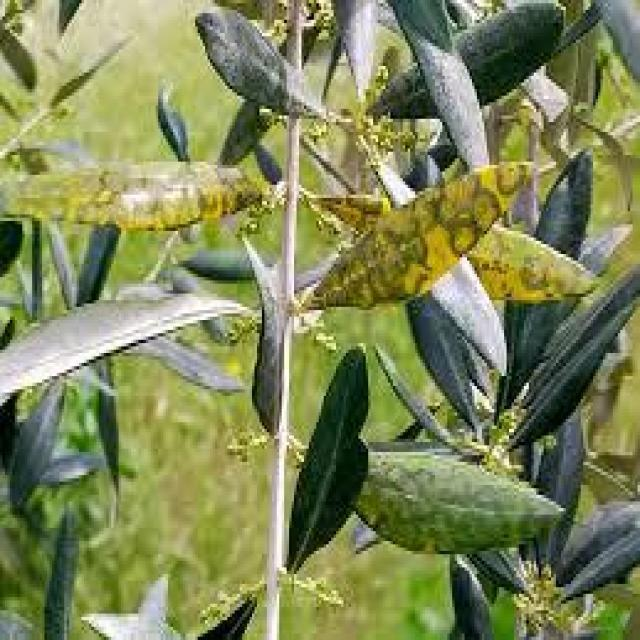OlivePeacockSpot: (312, 165, 502, 307), (5, 162, 264, 231), (356, 462, 556, 548)
